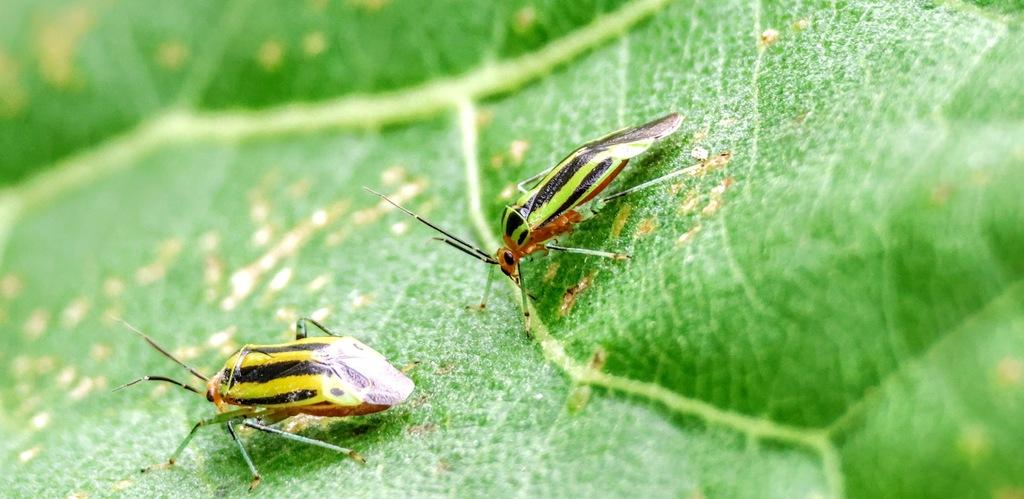plant_bugs: (354, 88, 726, 349), (84, 290, 449, 499)
